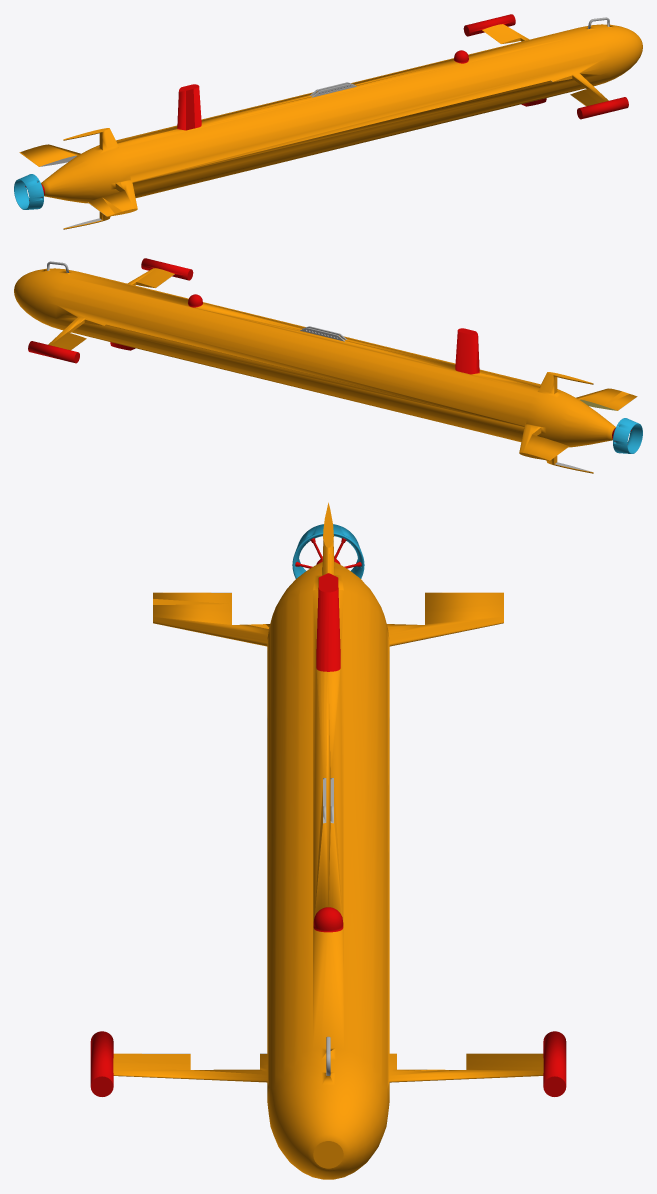
The model's file is body.dae.
3 views of the same model, one above another, from view 1: azimuth 30°, elevation 25°; view 2: azimuth 150°, elevation 25°; view 3: azimuth 270°, elevation 25° (orthographic). The views are drawn at different scales.
Parts seen in each view (by area): view 1: VIFS009, VIFS011; view 2: VIFS009, VIFS011; view 3: VIFS009, VIFS011.
Part boxes in pixels (x1=…): VIFS009: x1=19, y1=14, x2=642, y2=229; VIFS011: x1=14, y1=174, x2=43, y2=209; VIFS009: x1=14, y1=258, x2=637, y2=473; VIFS011: x1=613, y1=418, x2=642, y2=453; VIFS009: x1=90, y1=502, x2=566, y2=1179; VIFS011: x1=292, y1=524, x2=364, y2=578.
Size of the model in its own units: 2.8 by 0.935 by 0.4835.
